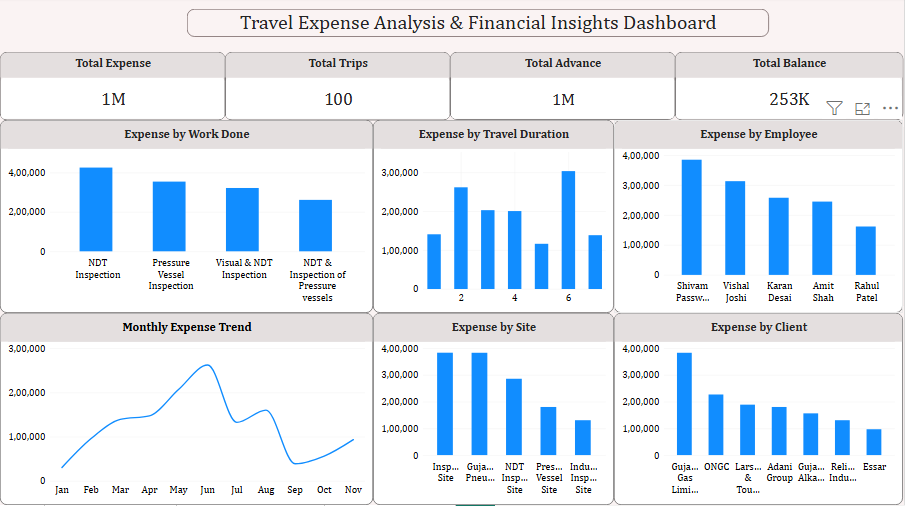

Layout of this report page (visuals, bound fields, positions):
{"tool":"powerbi","page":{"name":"Page 1","canvas":[1920,1080],"ordinal":0},"visuals":[{"type":"cardVisual","title":"Total Expense","fields":{"Data":["Sum(Traveling_Expenses_All_2026.Total_Amount)"]},"box":[0,0,420,144.4],"z":0},{"type":"cardVisual","title":"Total Trips","fields":{"Data":["CountNonNull(Traveling_Expenses_All_2026.Expense_ID)"]},"box":[422.2,0,537.8,144.4],"z":1000},{"type":"cardVisual","title":"Total Advance","fields":{"Data":["Sum(Traveling_Expenses_All_2026.Advance_Payment)"]},"box":[964.4,0,448.9,144.4],"z":2000},{"type":"cardVisual","title":"Total Balance","fields":{"Data":["Sum(Traveling_Expenses_All_2026.Balance_Amount)"]},"box":[1413.3,0,506.7,144.4],"z":3000},{"type":"lineChart","title":"Monthly Expense Trend","fields":{"Category":["Traveling_Expenses_All_2026.Month_Short"],"Y":["Sum(Traveling_Expenses_All_2026.Total_Amount)"]},"box":[0,144.4,422.2,437.8],"z":4000},{"type":"clusteredColumnChart","title":"Expense by Employee","fields":{"Category":["Traveling_Expenses_All_2026.Payee_Name"],"Y":["Sum(Traveling_Expenses_All_2026.Total_Amount)"]},"box":[422.2,144.4,537.8,437.8],"z":5000},{"type":"clusteredColumnChart","title":"Expense by Category","fields":{"Category":["Expense_Category.Category"],"Y":["Sum(Expense_Category.Amount)"]},"box":[0,582.2,422.2,497.8],"z":6000},{"type":"clusteredColumnChart","title":"Expense by Site","fields":{"Category":["Traveling_Expenses_All_2026.Site_Name"],"Y":["Sum(Traveling_Expenses_All_2026.Total_Amount)"]},"box":[964.4,582.2,448.9,497.8],"z":7000},{"type":"clusteredColumnChart","title":"Expense by Client","fields":{"Category":["Traveling_Expenses_All_2026.Client"],"Y":["Sum(Traveling_Expenses_All_2026.Total_Amount)"]},"box":[1413.3,582.2,506.7,497.8],"z":8000},{"type":"clusteredColumnChart","title":"Expense by Travel Duration","fields":{"Category":["Traveling_Expenses_All_2026.Travel_Days"],"Y":["Sum(Traveling_Expenses_All_2026.Total_Amount)"]},"box":[1413.3,144.4,506.7,437.8],"z":9000},{"type":"clusteredColumnChart","fields":{"Category":["Traveling_Expenses_All_2026.Month"],"Y":["Sum(Traveling_Expenses_All_2026.Advance_Payment)","Sum(Traveling_Expenses_All_2026.Total_Amount)"]},"box":[420,582.2,540,497.8],"z":9001},{"type":"clusteredColumnChart","title":"Expense by Work Done","fields":{"Category":["Traveling_Expenses_All_2026.Work_Done"],"Y":["Sum(Traveling_Expenses_All_2026.Total_Amount)"]},"box":[964.4,144.4,448.9,437.8],"z":9003}]}

Visuals, with their boxes in screenshot pixels (x1, y1, x2, y2), scaled from the page's 1920x1080 canvas onto the 905x506 screenshot:
"Total Expense" cardVisual: (0, 0, 198, 68)
"Total Trips" cardVisual: (199, 0, 452, 68)
"Total Advance" cardVisual: (455, 0, 666, 68)
"Total Balance" cardVisual: (666, 0, 904, 68)
"Monthly Expense Trend" lineChart: (0, 68, 199, 273)
"Expense by Employee" clusteredColumnChart: (199, 68, 452, 273)
"Expense by Category" clusteredColumnChart: (0, 273, 199, 505)
"Expense by Site" clusteredColumnChart: (455, 273, 666, 505)
"Expense by Client" clusteredColumnChart: (666, 273, 904, 505)
"Expense by Travel Duration" clusteredColumnChart: (666, 68, 904, 273)
clusteredColumnChart - Traveling_Expenses_All_2026.Month x Sum(Traveling_Expenses_All_2026.Advance_Payment): (198, 273, 452, 505)
"Expense by Work Done" clusteredColumnChart: (455, 68, 666, 273)
